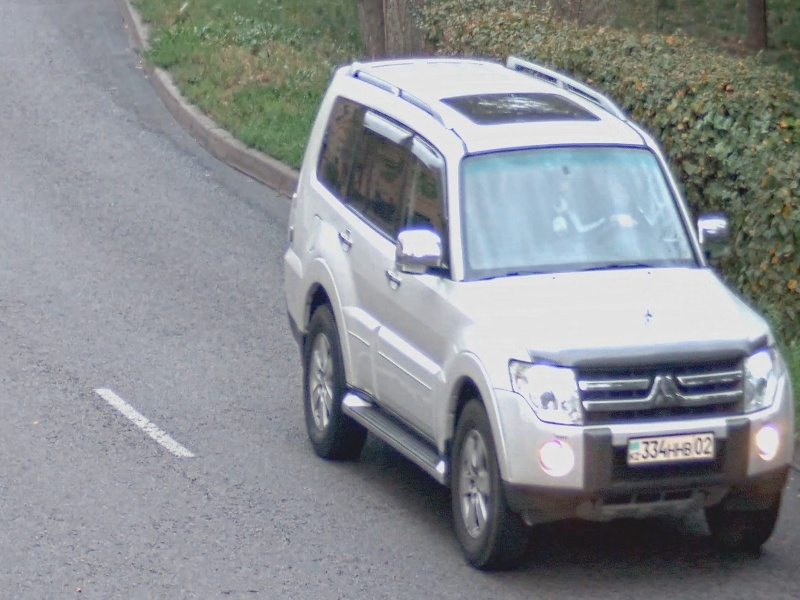plate: (626, 429, 717, 467)
